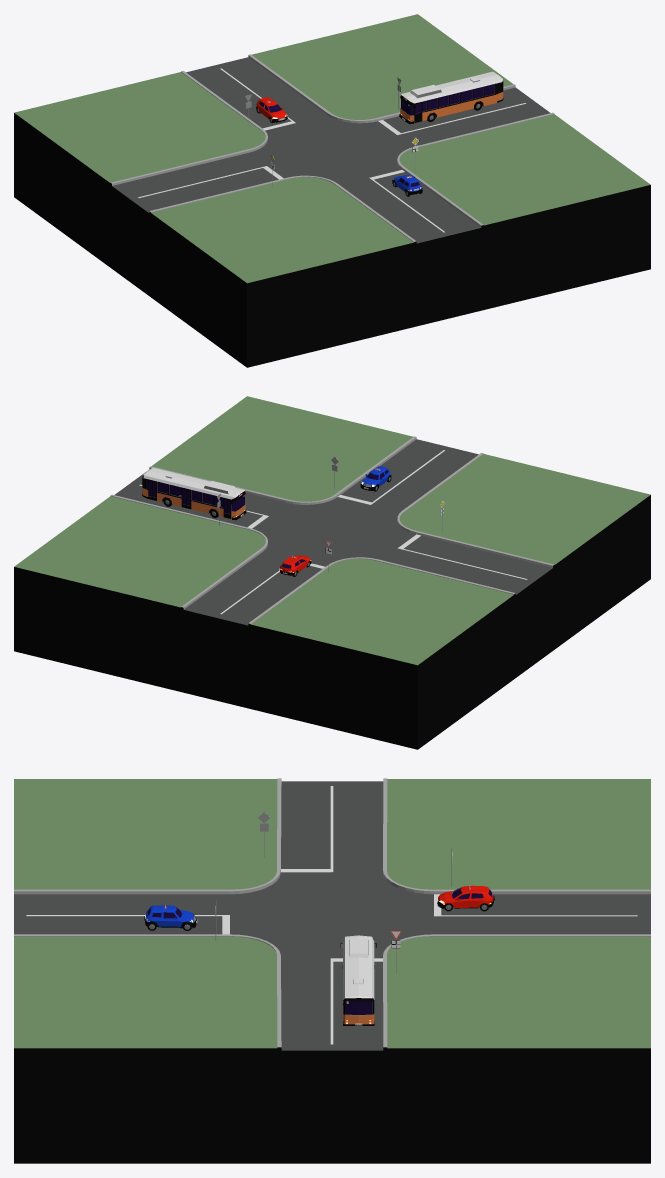
File: block-001.glb
3 renders of one model, top to bottom at view 1: azimuth 30°, elevation 25°; view 2: azimuth 150°, elevation 25°; view 3: azimuth 270°, elevation 25°, orthographic. The views are drawn at different scales.
Parts seen in each view (by area): view 1: Plane.001, Cube.008, Car 3 Model; view 2: Plane.001, Cube.008; view 3: Plane.001, Cube.008, Car 3 Model, Car 1 Model.
Part boxes in pixels (x1=…): Plane.001: x1=14, y1=14, x2=650, y2=367; Cube.008: x1=399, y1=71, x2=503, y2=123; Car 3 Model: x1=256, y1=97, x2=287, y2=122; Plane.001: x1=14, y1=396, x2=650, y2=749; Cube.008: x1=142, y1=468, x2=246, y2=520; Plane.001: x1=14, y1=778, x2=650, y2=1163; Cube.008: x1=340, y1=935, x2=376, y2=1025; Car 3 Model: x1=437, y1=885, x2=494, y2=908; Car 1 Model: x1=144, y1=904, x2=197, y2=928.
Bounding box in the file's own units: 50 × 13.88 × 50.
